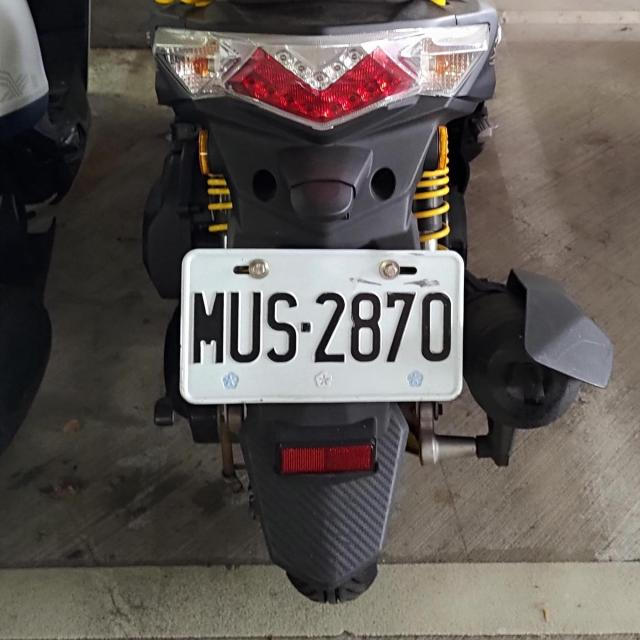W: (178, 245, 462, 405)
